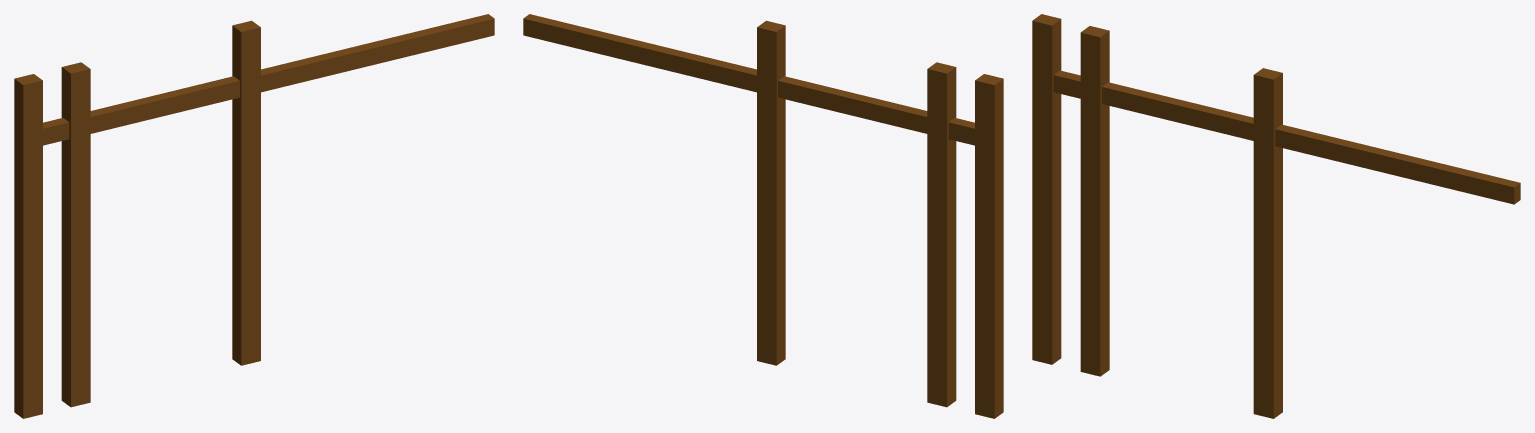
Rendered from Asian_Prop_Building_Rafters_Beams_Frame_01.FBX.
The picture shows the model from 3 angles, left to right: view 1: azimuth 30°, elevation 25°; view 2: azimuth 150°, elevation 25°; view 3: azimuth 330°, elevation 25°; orthographic projection.
Parts seen in each view (by area): view 1: Asian_Prop_Building_Rafters_Beams_Frame_01; view 2: Asian_Prop_Building_Rafters_Beams_Frame_01; view 3: Asian_Prop_Building_Rafters_Beams_Frame_01.
Boxes of the visible parts, bbox=[...] form: Asian_Prop_Building_Rafters_Beams_Frame_01: bbox=[14, 14, 494, 418]; Asian_Prop_Building_Rafters_Beams_Frame_01: bbox=[523, 14, 1003, 418]; Asian_Prop_Building_Rafters_Beams_Frame_01: bbox=[1032, 14, 1520, 418].
Size of the model in its own units: 5167 by 3485 by 173.
